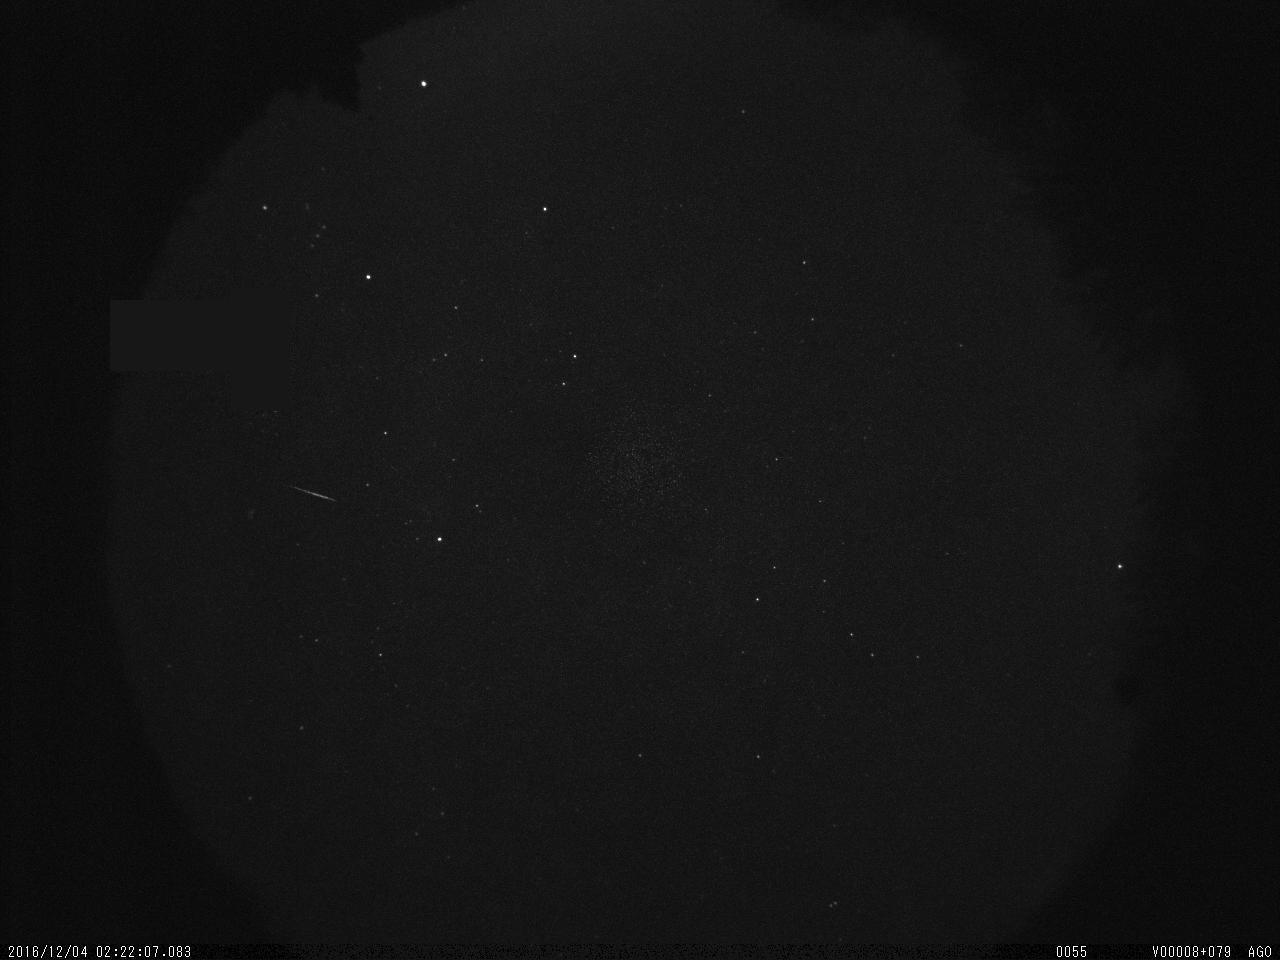meteor: (279, 465, 353, 515)
